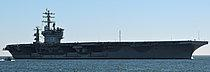MIL_Ship: (3, 7, 208, 61)
